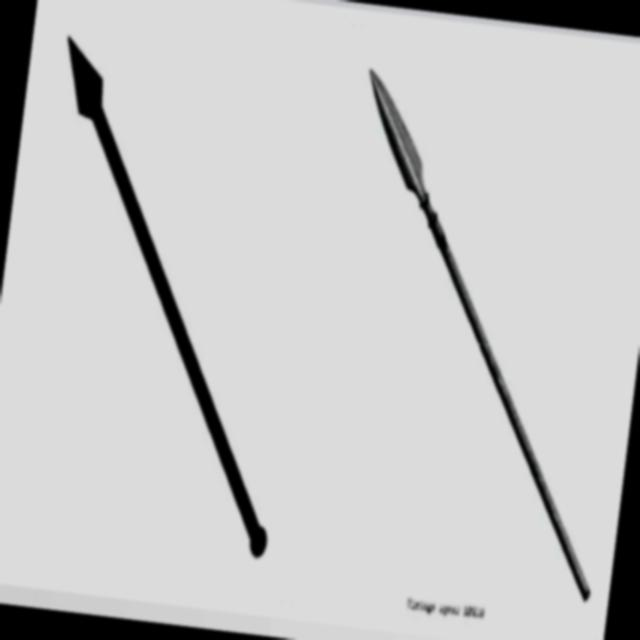spear: (301, 39, 640, 610)
